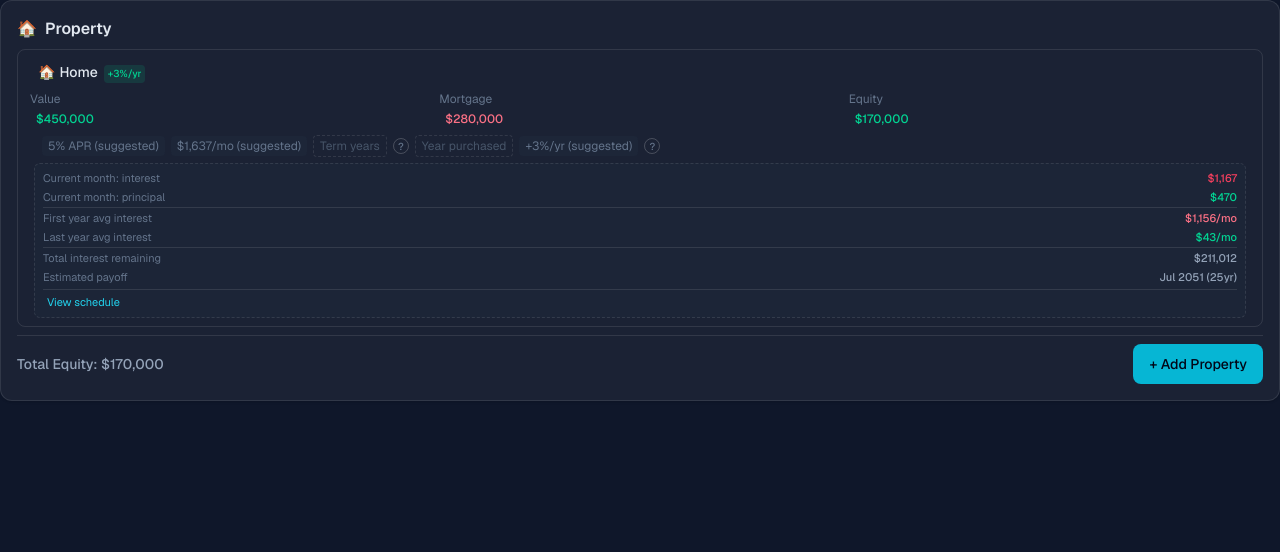
Test case: PropertyEntry component › shows add form when Add Property is clicked
The width and height of the screenshot is (1280, 552).
Click the button "+ Add Property" at (1198, 364), box [1133, 344, 1263, 384]
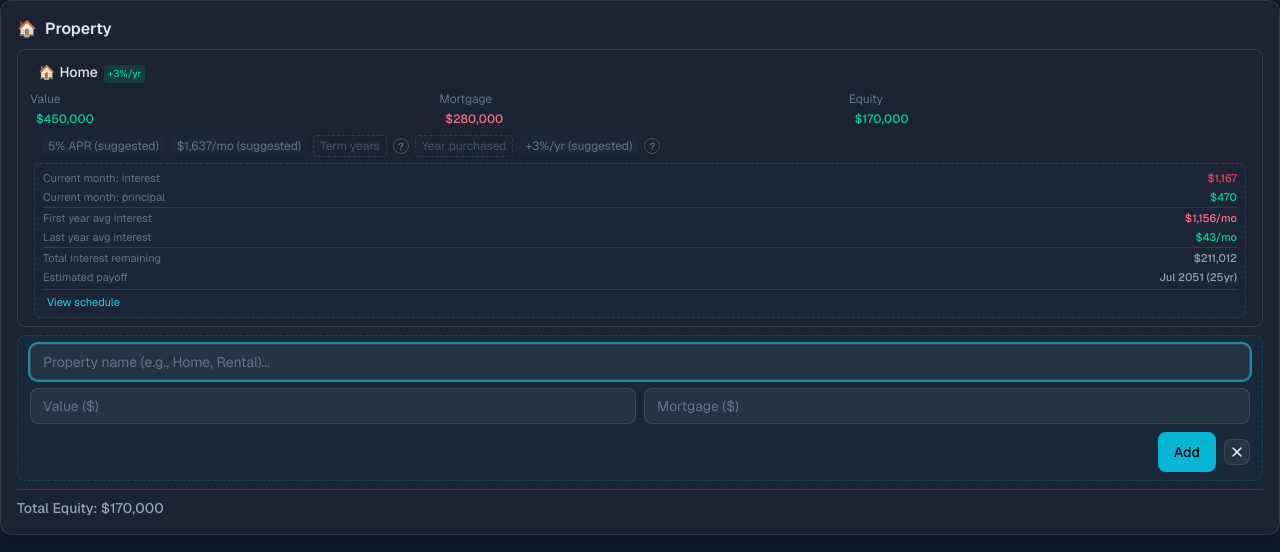
Now the field named "New property name" is shown, box [30, 344, 1250, 380]
Now the field named "New property value" is shown, box [30, 388, 636, 424]
Now the field named "New property mortgage" is shown, box [644, 388, 1250, 424]
